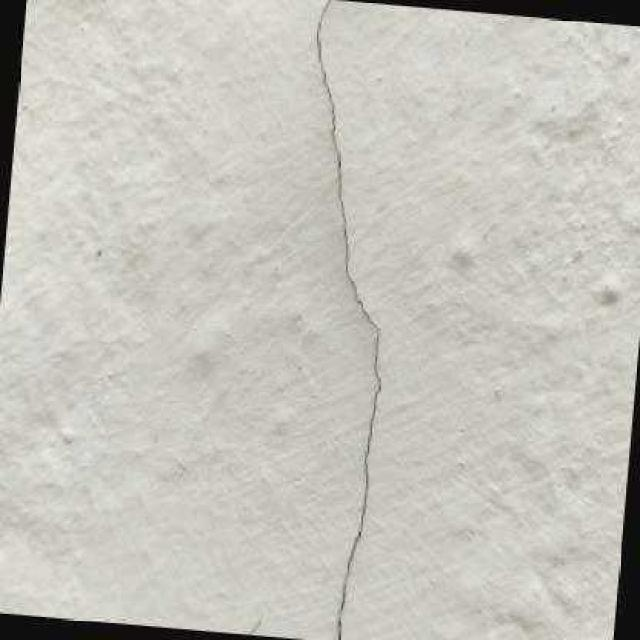D00: (316, 0, 381, 640), (247, 614, 262, 635)
